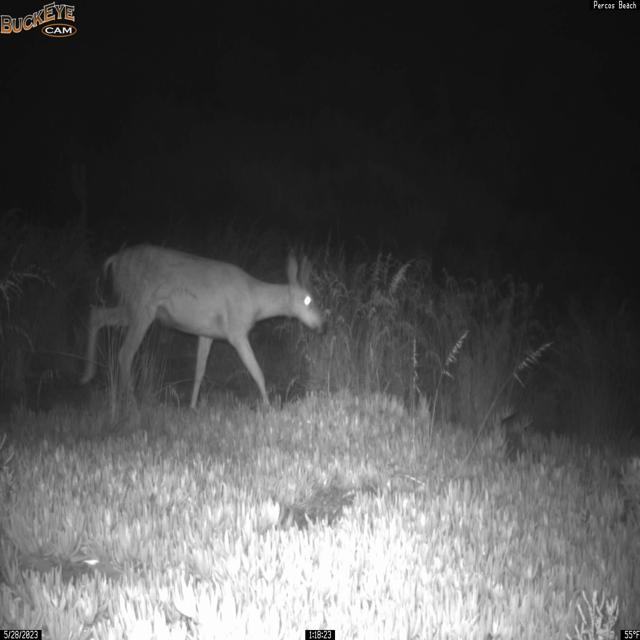deer: (77, 242, 328, 413)
